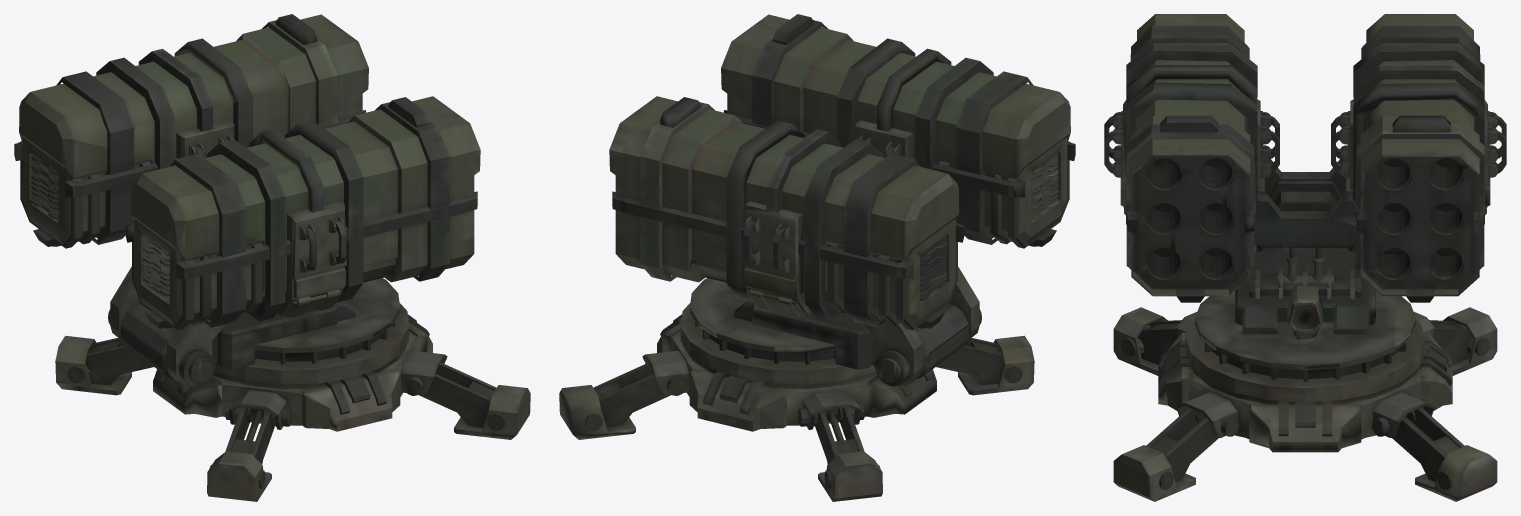
File: SK_DefenseFacilityElectric_907cbb.glb
3 views of the same model, side by side, from view 1: azimuth 30°, elevation 25°; view 2: azimuth 150°, elevation 25°; view 3: azimuth 270°, elevation 25° (orthographic). The views are drawn at different scales.
Size of the model in its own units: 1.65 by 1.42 by 1.55.
Materials: 1 (1 with a texture image).
